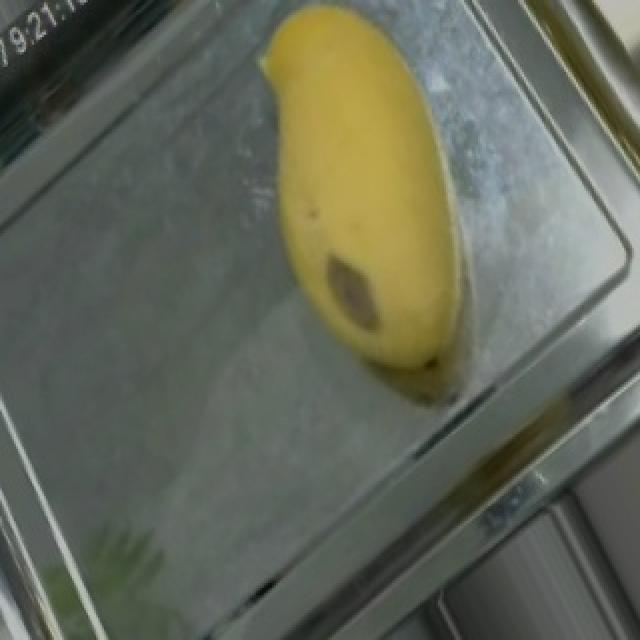fruit: (206, 0, 640, 474), (192, 0, 546, 340)
